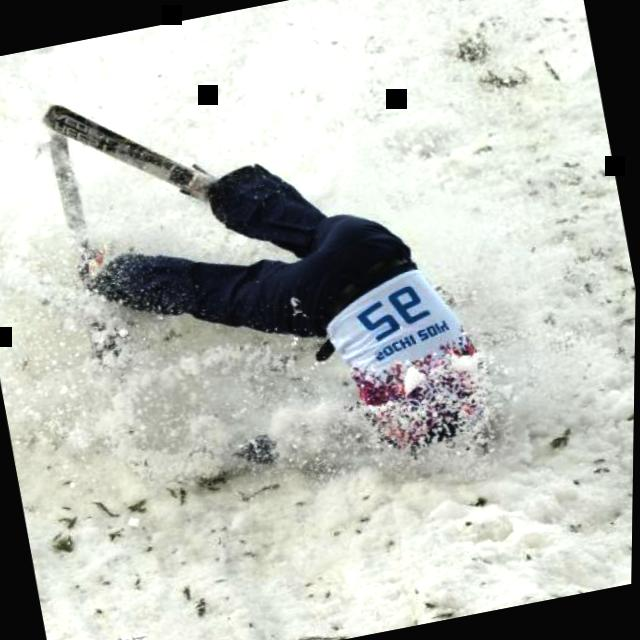Fall-Detected: (16, 23, 520, 549)
